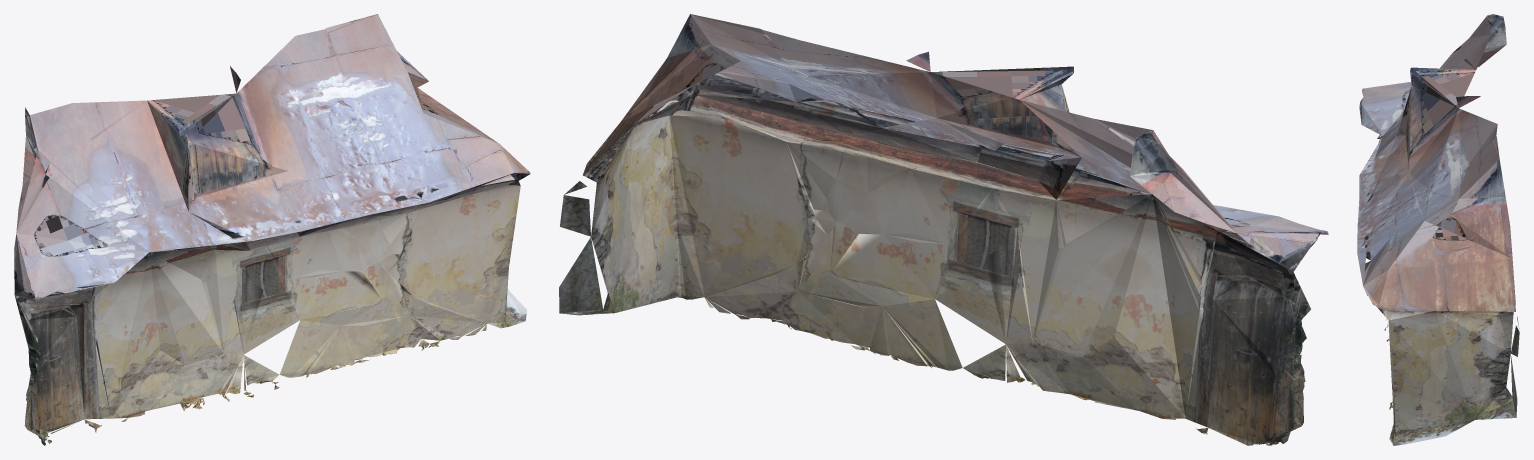
Rendered from plaster_house.glb.
3 views of the same model, side by side, from view 1: azimuth 30°, elevation 25°; view 2: azimuth 150°, elevation 25°; view 3: azimuth 270°, elevation 25° (orthographic). The views are drawn at different scales.
Parts seen in each view (by area): view 1: plaster_house_obj; view 2: plaster_house_obj; view 3: plaster_house_obj.
Boxes of the visible parts, x1,y1,x2,y2 form: plaster_house_obj: (14,14,530,445); plaster_house_obj: (559,14,1328,445); plaster_house_obj: (1357,14,1519,445).
Bounding box in the file's own units: 18.07 × 9.7 × 5.61.
1 material, 1 textured.
